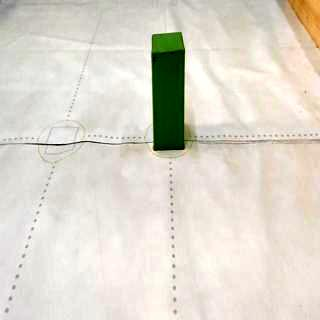greenbox: (152, 32, 185, 150)
